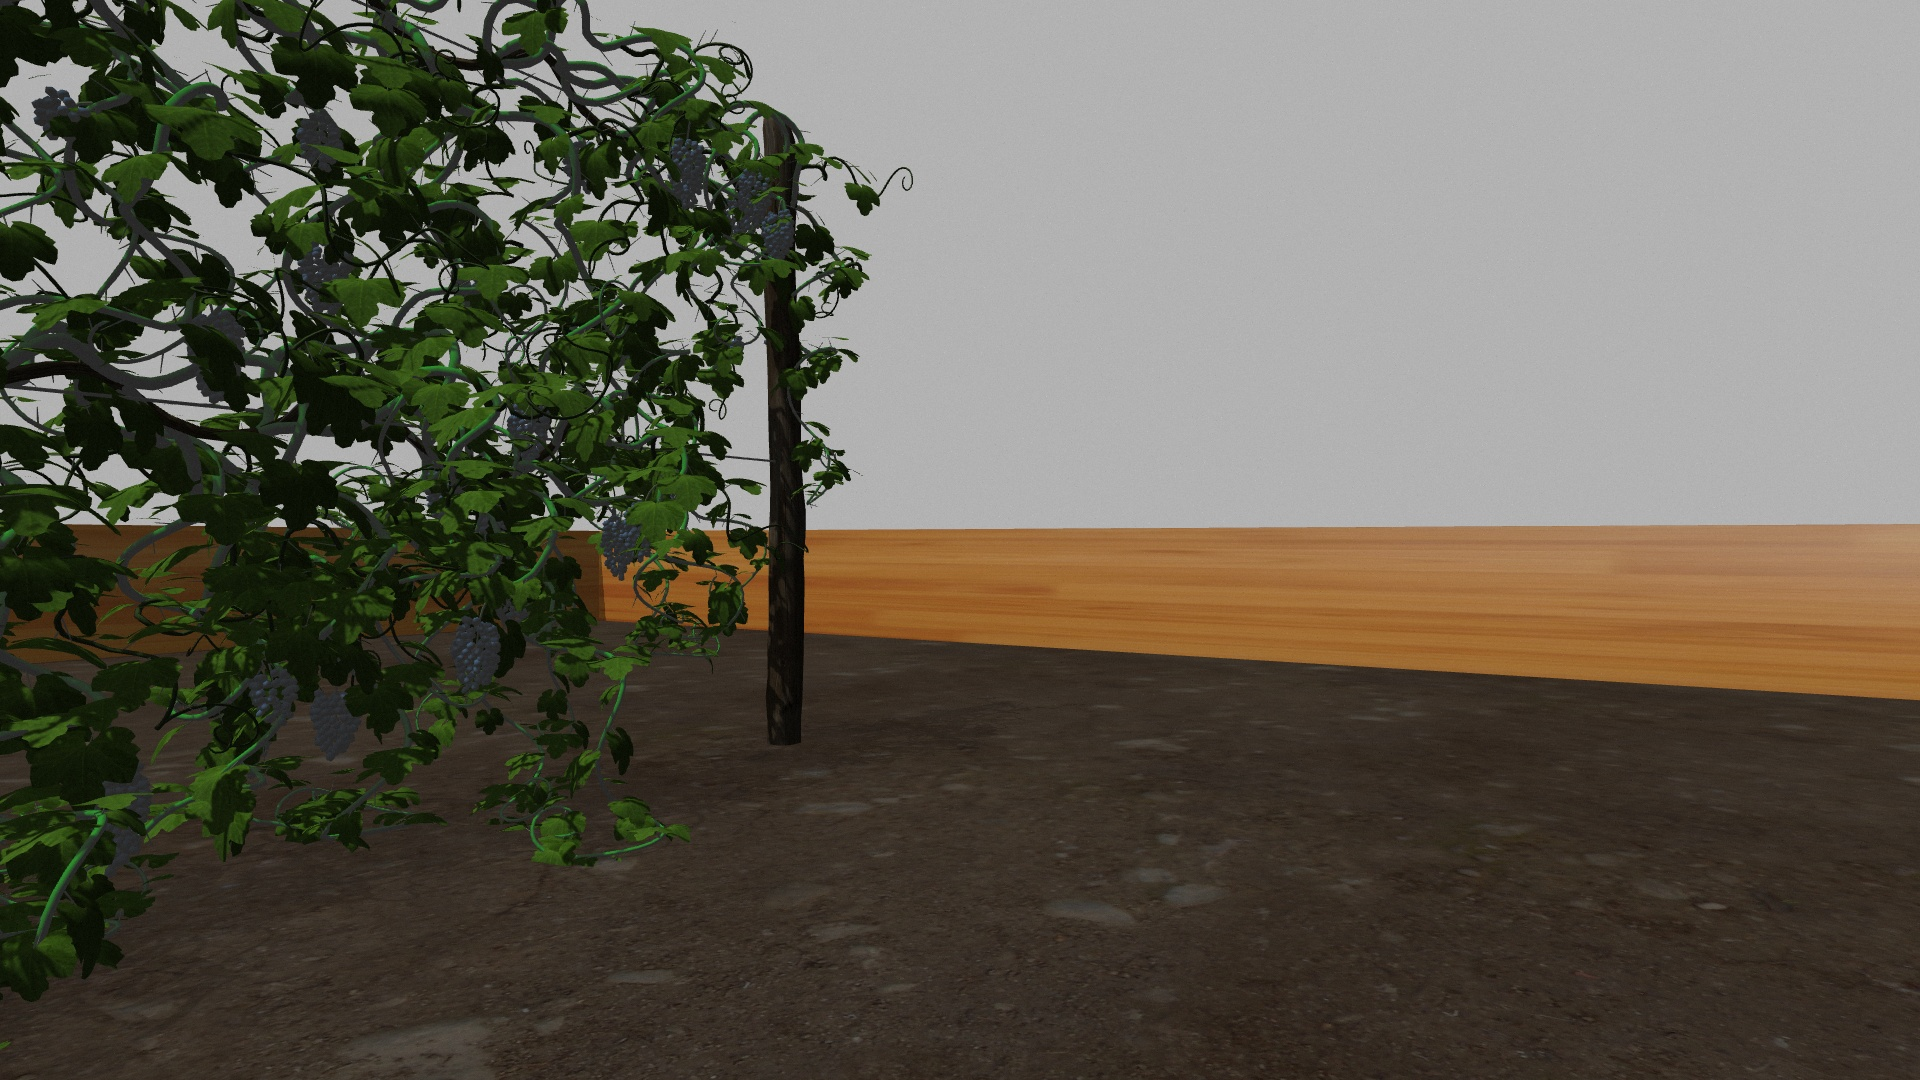grape: (92, 767, 154, 868), (187, 313, 249, 405), (297, 245, 363, 318), (309, 687, 364, 762), (454, 615, 502, 692), (295, 111, 345, 175), (29, 86, 84, 142), (251, 669, 299, 732), (506, 400, 554, 463), (670, 137, 707, 211), (735, 171, 773, 233), (601, 516, 630, 582), (764, 212, 795, 262), (629, 514, 658, 564)
